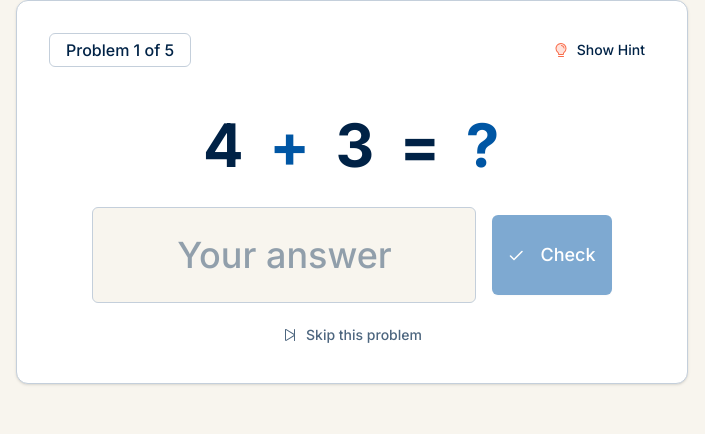
Test: ProblemCard missing-addend feedback (#57) › skip submits a zero answer without focusing the input first
Note: Click skip directly, never touching the answer field.
Click the button labelled "Skip this problem". click: x=352, y=335
box: [272,319,432,351]
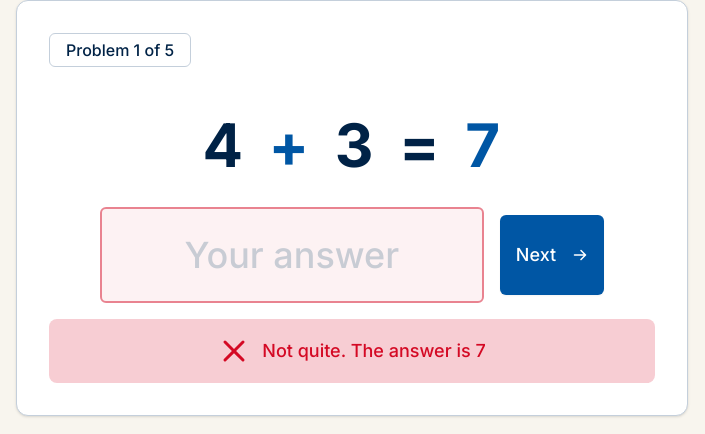
Now the button with aria-label "Next problem" is shown, box [500,215,604,295]
